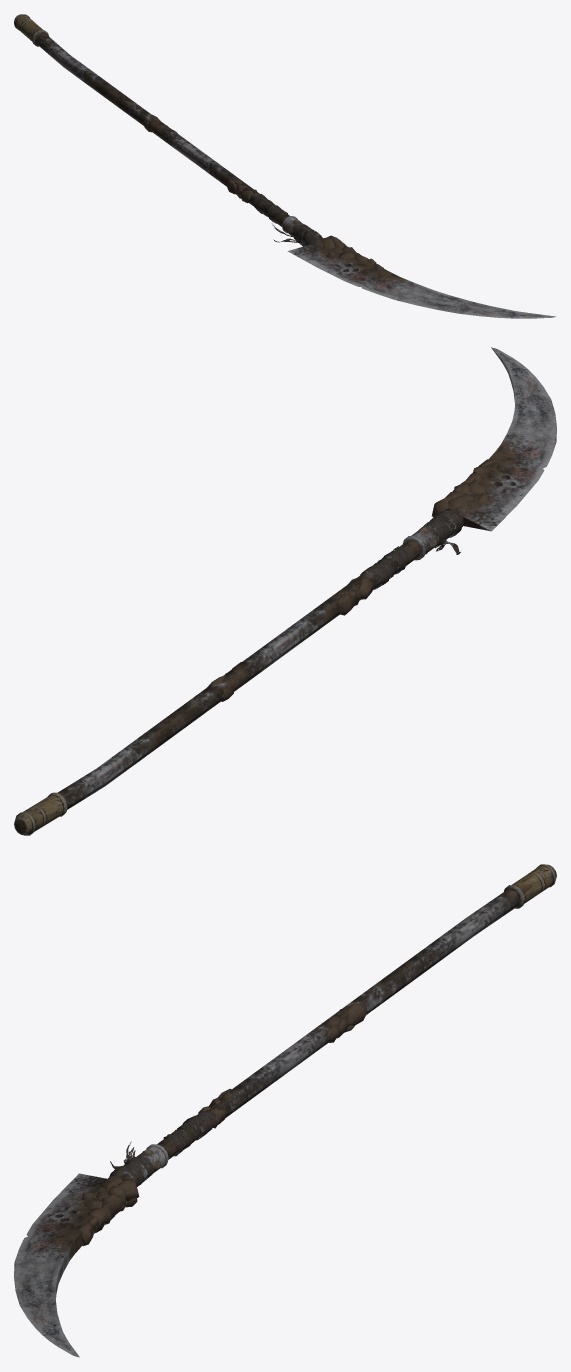
File: glaive.fbx
3 renders of one model, top to bottom at view 1: azimuth 30°, elevation 25°; view 2: azimuth 150°, elevation 25°; view 3: azimuth 330°, elevation 25°, orthographic. The views are drawn at different scales.
Visible parts, largest first — view 1: WP_A_1014; view 2: WP_A_1014; view 3: WP_A_1014.
Part boxes in pixels (x1=…): WP_A_1014: x1=14, y1=14, x2=555, y2=318; WP_A_1014: x1=14, y1=347, x2=556, y2=835; WP_A_1014: x1=14, y1=864, x2=556, y2=1357.
Size of the model in its own units: 43.07 by 5.81 by 241.
Materials: 1 (1 with a texture image).
